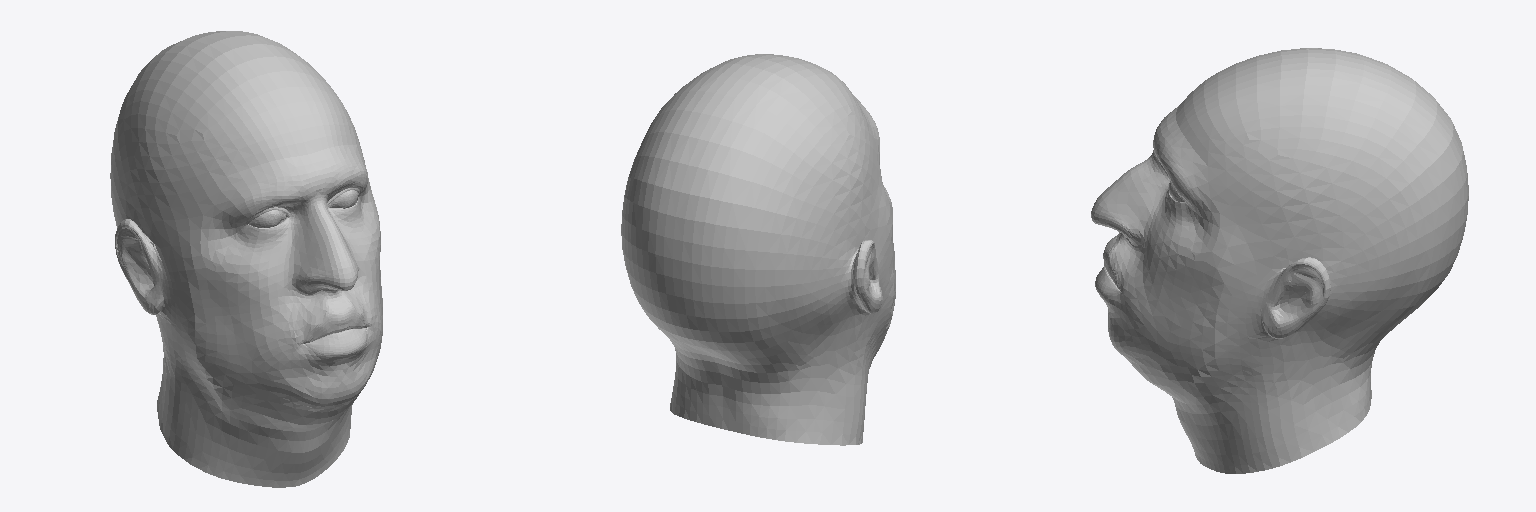
3 views of the same model, side by side, from view 1: azimuth 30°, elevation 25°; view 2: azimuth 150°, elevation 25°; view 3: azimuth 270°, elevation 25° (orthographic).
Parts seen in each view (by area): view 1: FaceGen; view 2: FaceGen; view 3: FaceGen.
Part boxes in pixels (bbox=[...]): FaceGen: bbox=[110, 31, 382, 487]; FaceGen: bbox=[621, 54, 895, 445]; FaceGen: bbox=[1091, 48, 1468, 473].
Bounding box in the file's own units: 173 × 278 × 239.